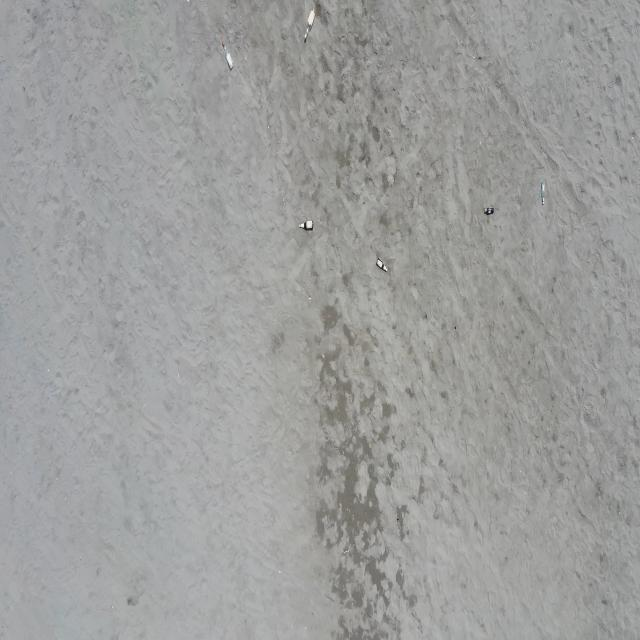glass: (304, 8, 316, 40), (222, 40, 234, 71), (298, 220, 314, 230), (376, 258, 388, 271), (541, 181, 546, 205), (484, 207, 495, 215)
